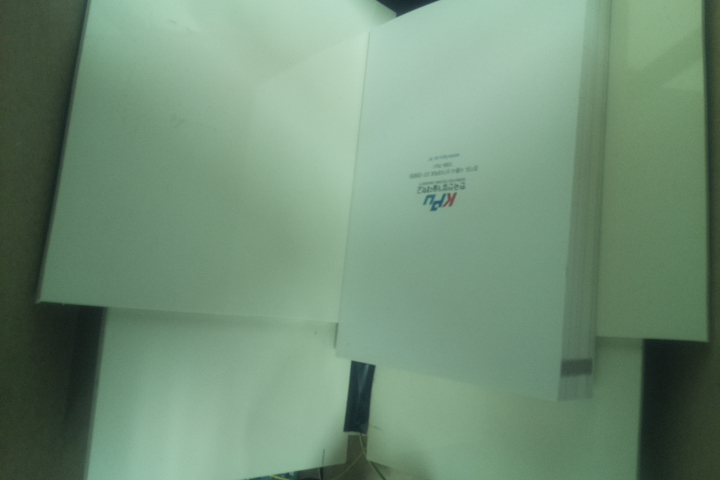book: (331, 1, 623, 406)
